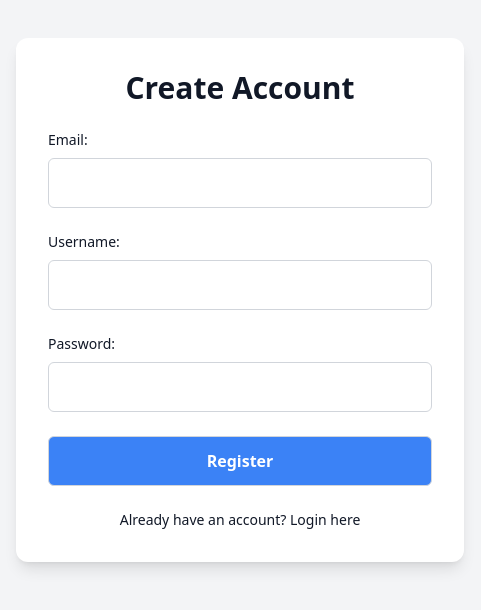
it: RegisterPage › should display fallback error message when API returns empty message
In the field labelled "Email:": (240, 183) [48,158,432,208], type "no-msg@user.com"
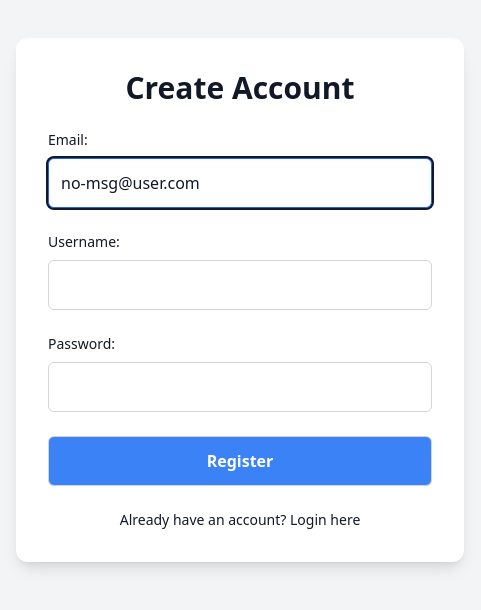
In the field labelled "Username:": (240, 285) [48,260,432,310], type "nomsguser"
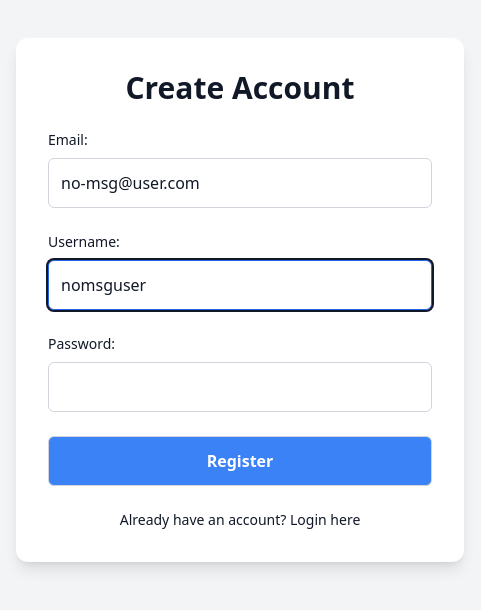
In the password field labelled "Password:": (240, 387) [48,362,432,412], type "password123"
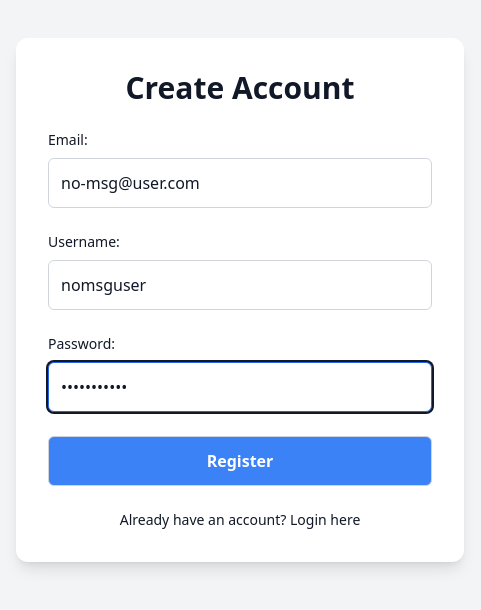
Click the button "Register": (240, 461) [48,436,432,486]
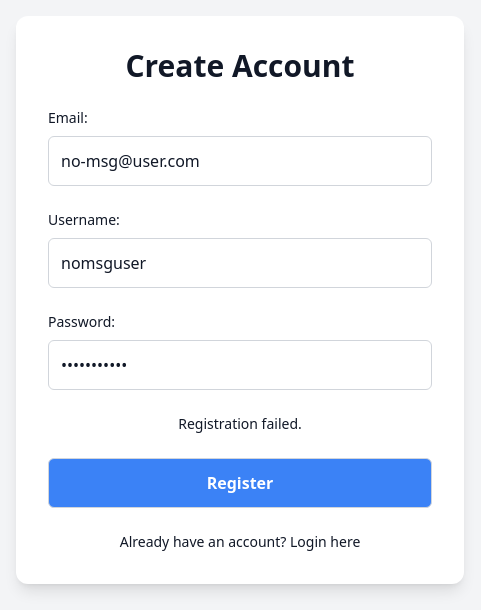
Result: the text "Registration failed." is shown at [178,414,302,433]
